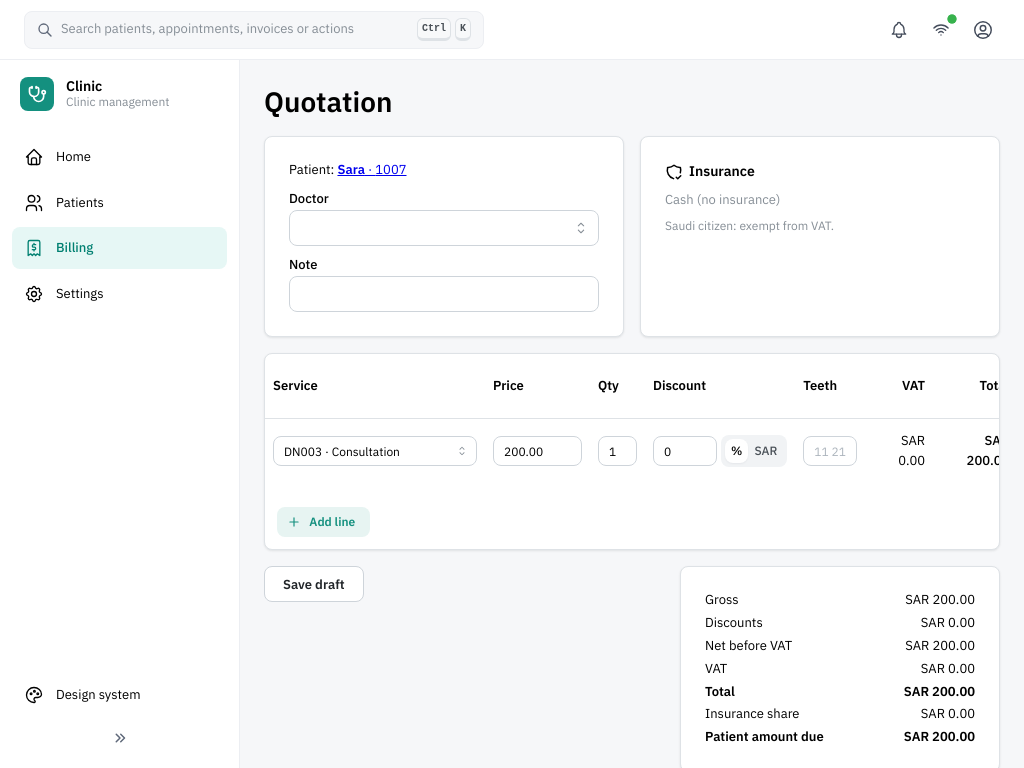
new quotation: picks a service and shows server-calculated totals; saves
The width and height of the screenshot is (1024, 768).
Earlier steps of the test are not shown.
Check: the text with test id "patient-due" reads "SAR 200.00", box [904,728,975,745]
Check: the text "Saudi citizen: exempt from VAT." is shown, box [665,218,834,233]
Click the button with test id "save-draft" at [314, 584], box [264,566,364,602]
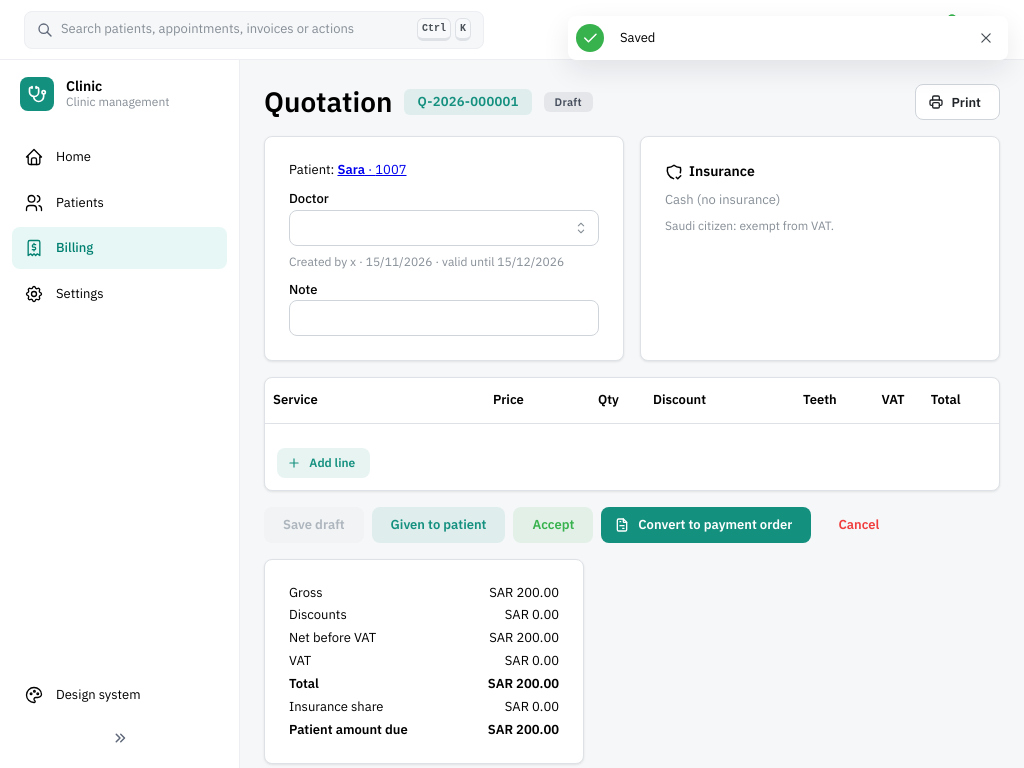
Check: the text "SAR 200.00" next to "Patient amount due" is shown, box [488,721,559,738]
Check: the element with test id "doc-number" reads "Q-2026-000001", box [418,93,519,110]
